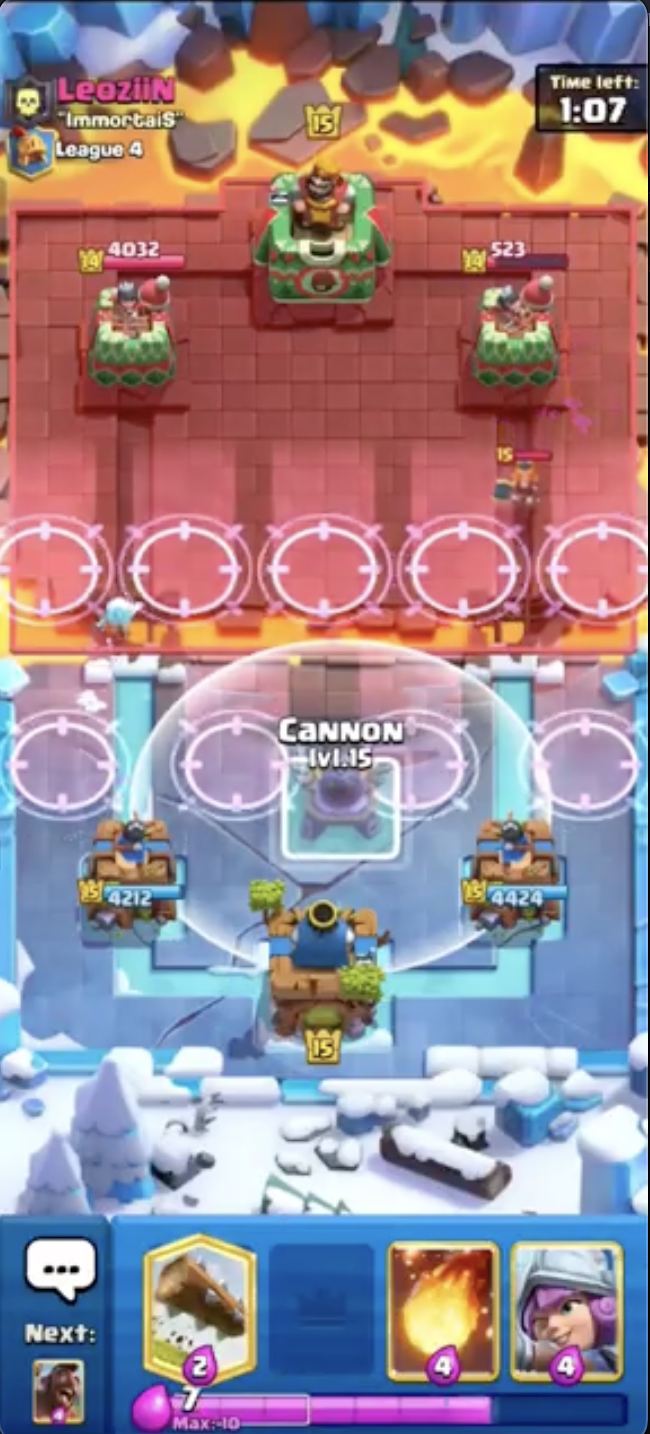cannon: (268, 708, 413, 865)
ice-spirit: (98, 585, 146, 637)
